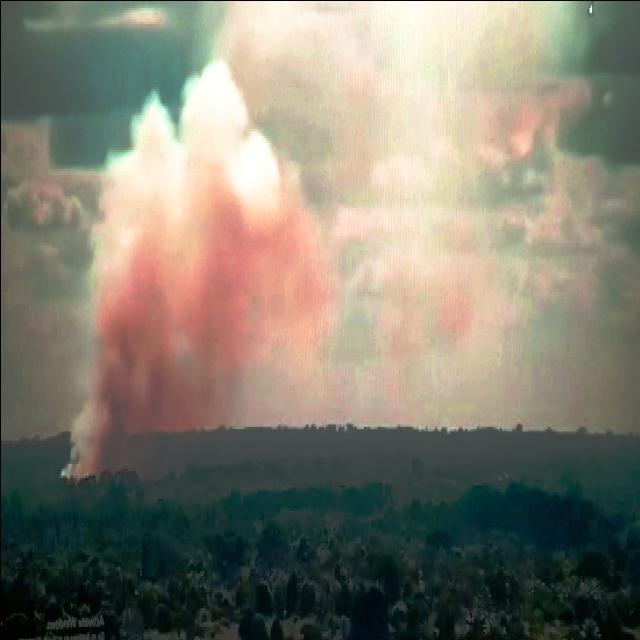asap: (49, 43, 342, 504)
